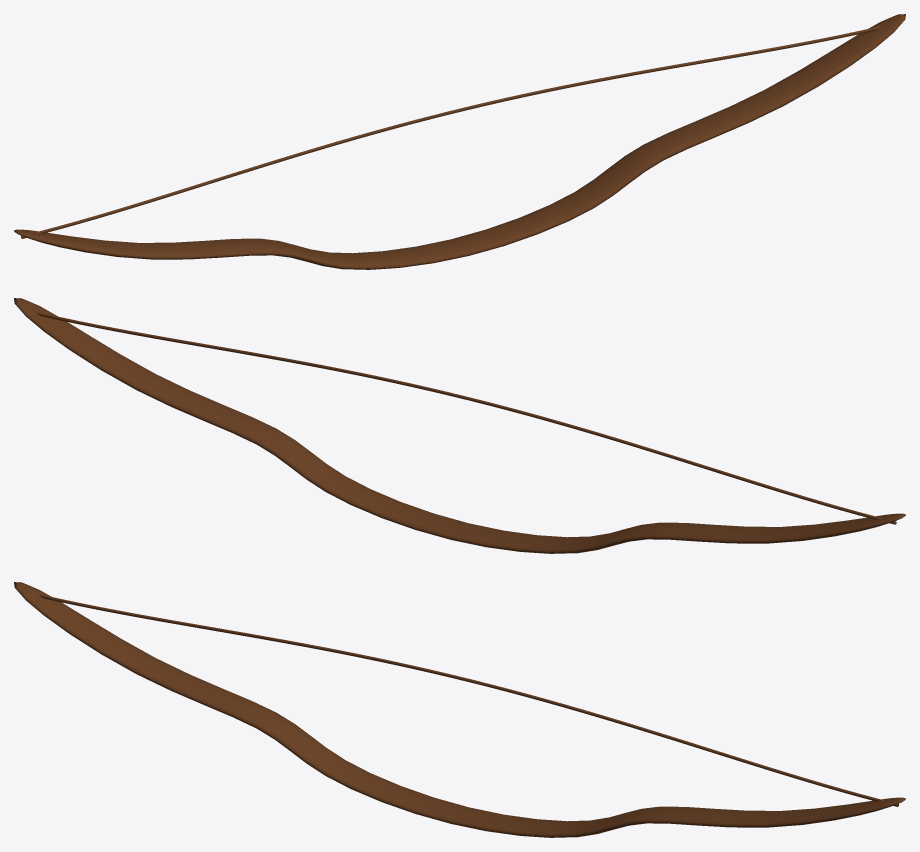
Rendered from EnemyArcherBow.fbx.
3 views of the same model, one above another, from view 1: azimuth 30°, elevation 25°; view 2: azimuth 150°, elevation 25°; view 3: azimuth 330°, elevation 25° (orthographic).
Parts seen in each view (by area): view 1: Bow; view 2: Bow; view 3: Bow.
Boxes of the visible parts, <box> form: Bow: <box>14,14,905,269</box>; Bow: <box>14,298,905,553</box>; Bow: <box>14,582,905,837</box>.
Bounding box in the file's own units: 313 × 47.49 × 11.86.
